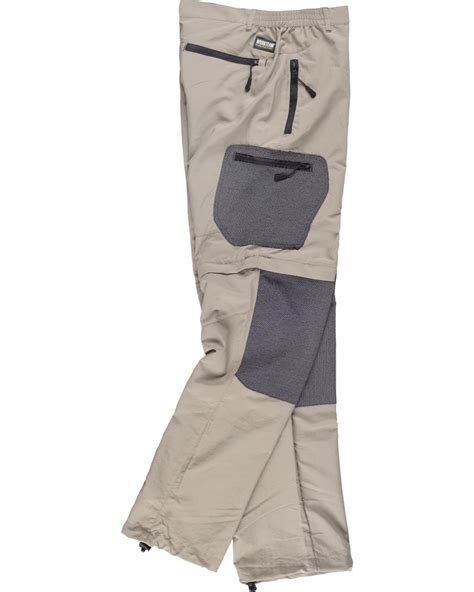nylon: (124, 1, 356, 585)
